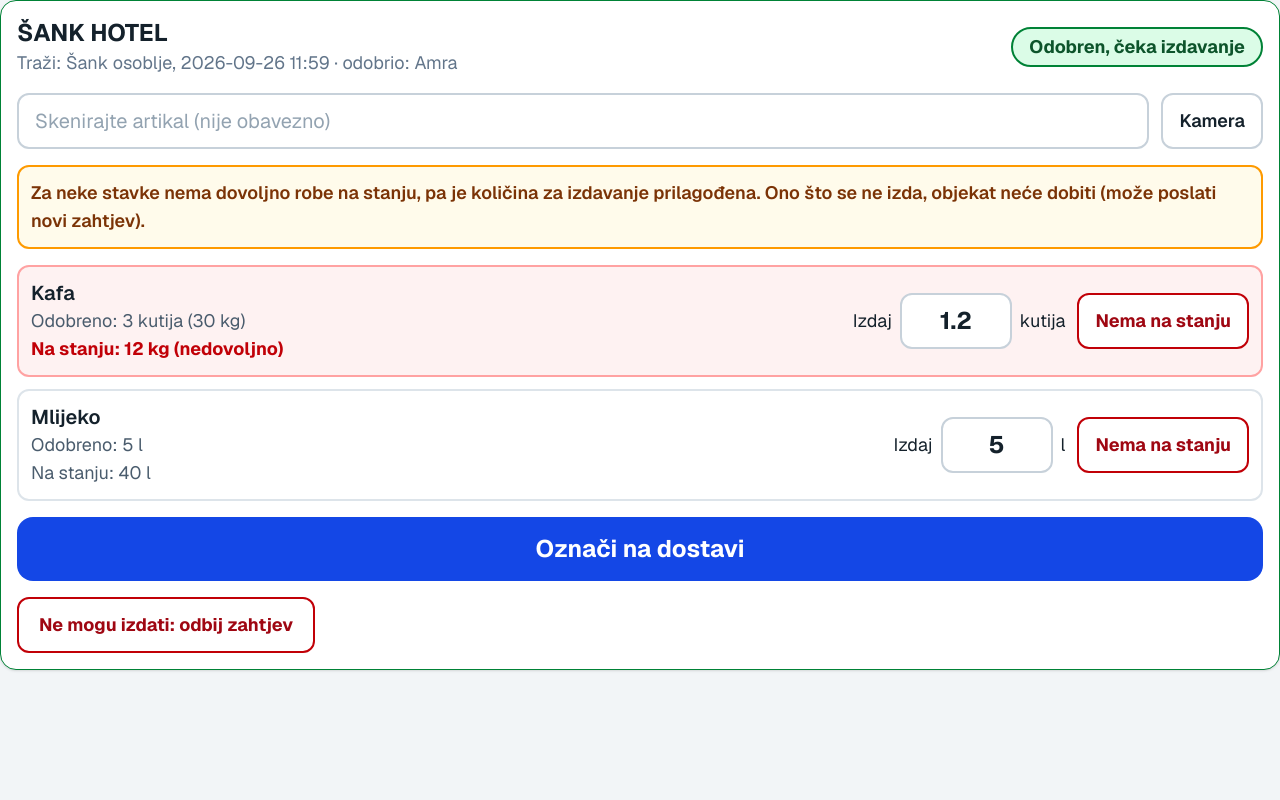
Test: magacioner: izdavanje odobrenog zahtjeva › skeniranje bar koda artikla označava stavku kao provjerenu, bez slanja forme
The width and height of the screenshot is (1280, 800).
Click the field labelled "Skenirajte artikal" at [583, 121], box [17,93,1149,149]
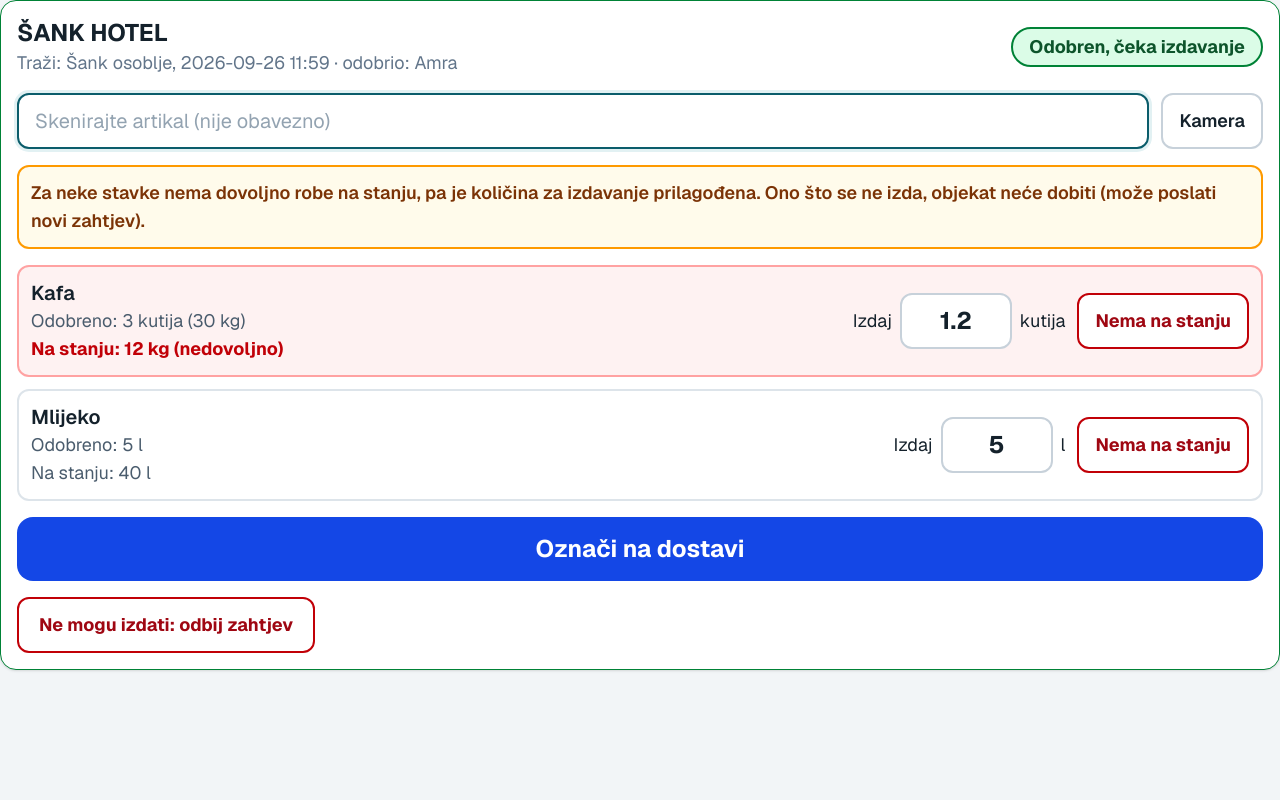
Type keys "3850001{Enter}"
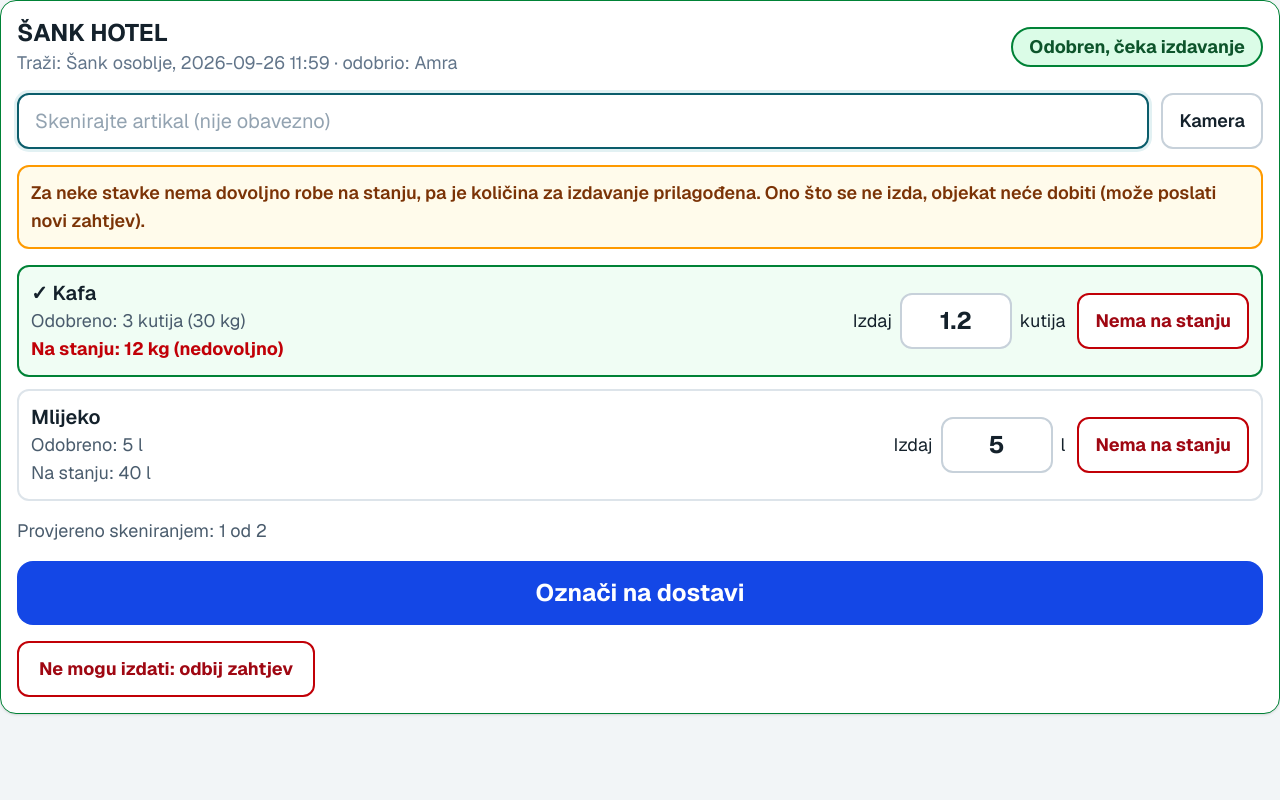
Expected: the text named "provjereno" is shown, [31,280,52,306]
Expected: the text "Provjereno skeniranjem: 1 od 2" is shown, [17,519,267,542]
